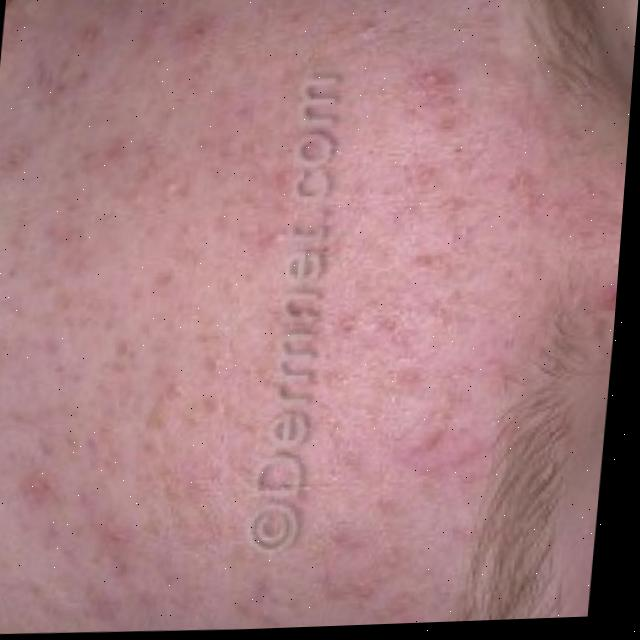Acne: (6, 0, 548, 570)
